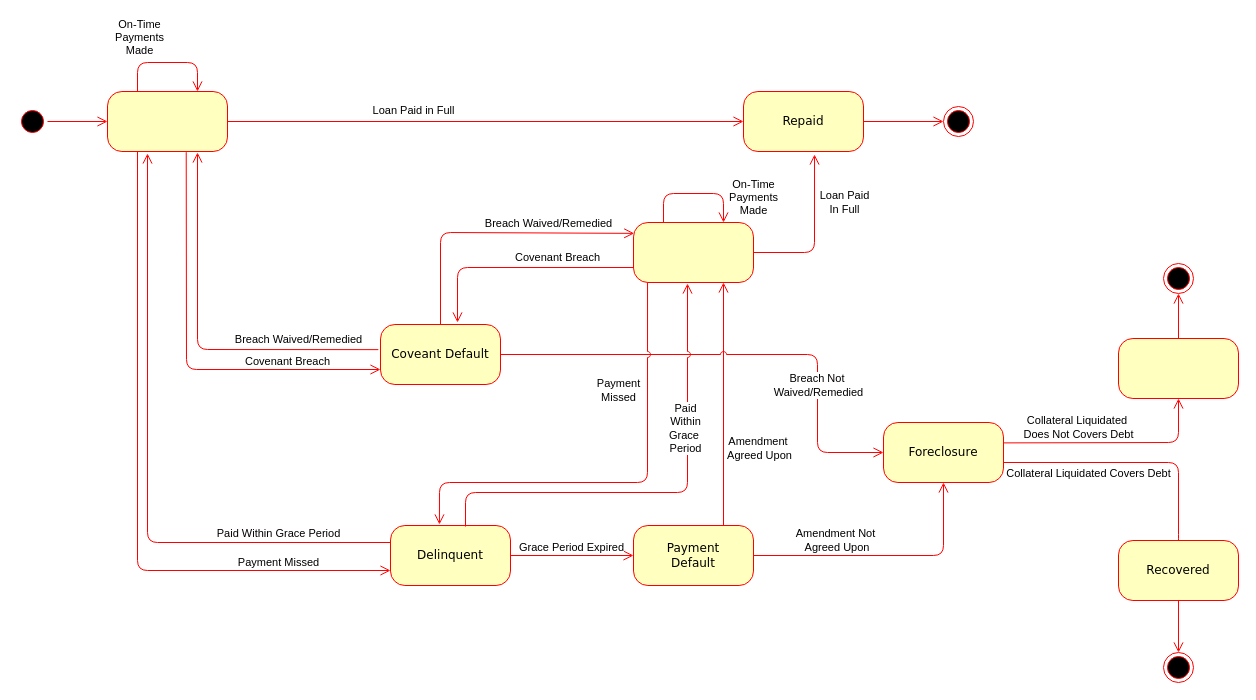
Some shapes in this 1256 by 700 pixel diagram are drawn without their labels. Here are the shapes that lost their labels. From the top down, the centre of each, then its label:
the point at 167,121: Performing
the point at 693,252: Restructured
the point at 1178,368: Written Off
